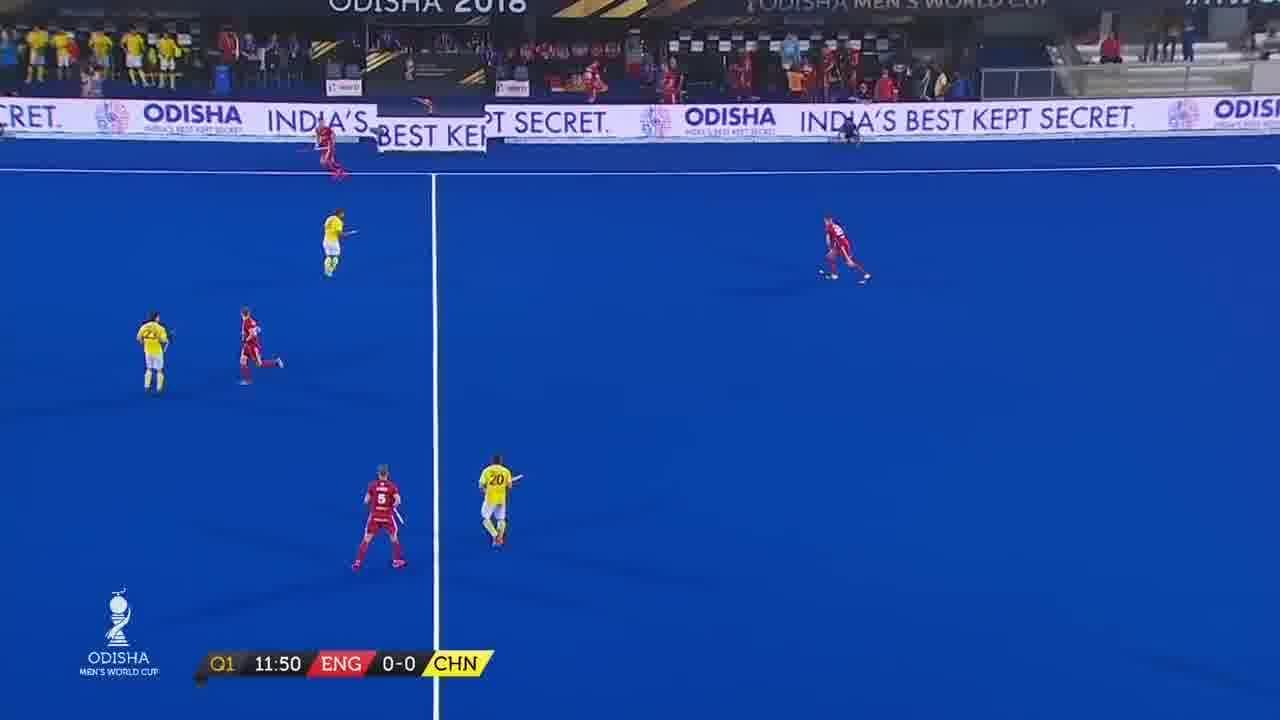ball: (818, 264, 828, 280)
